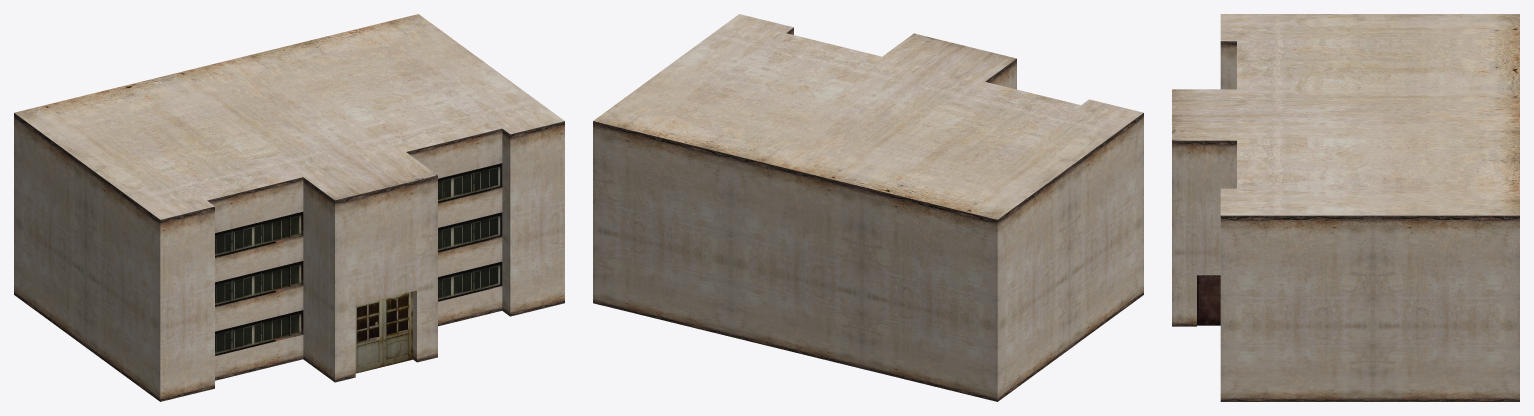
File: BuildingI.fbx
3 views of the same model, side by side, from view 1: azimuth 30°, elevation 25°; view 2: azimuth 150°, elevation 25°; view 3: azimuth 270°, elevation 25° (orthographic). The views are drawn at different scales.
Visible parts, largest first — view 1: BuildingI; view 2: BuildingI; view 3: BuildingI.
Boxes of the visible parts, x1,y1,x2,y2 form: BuildingI: (14,14,564,401); BuildingI: (593,14,1143,401); BuildingI: (1172,14,1519,401).
Bounding box in the file's own units: 1799 × 774 × 1310.
